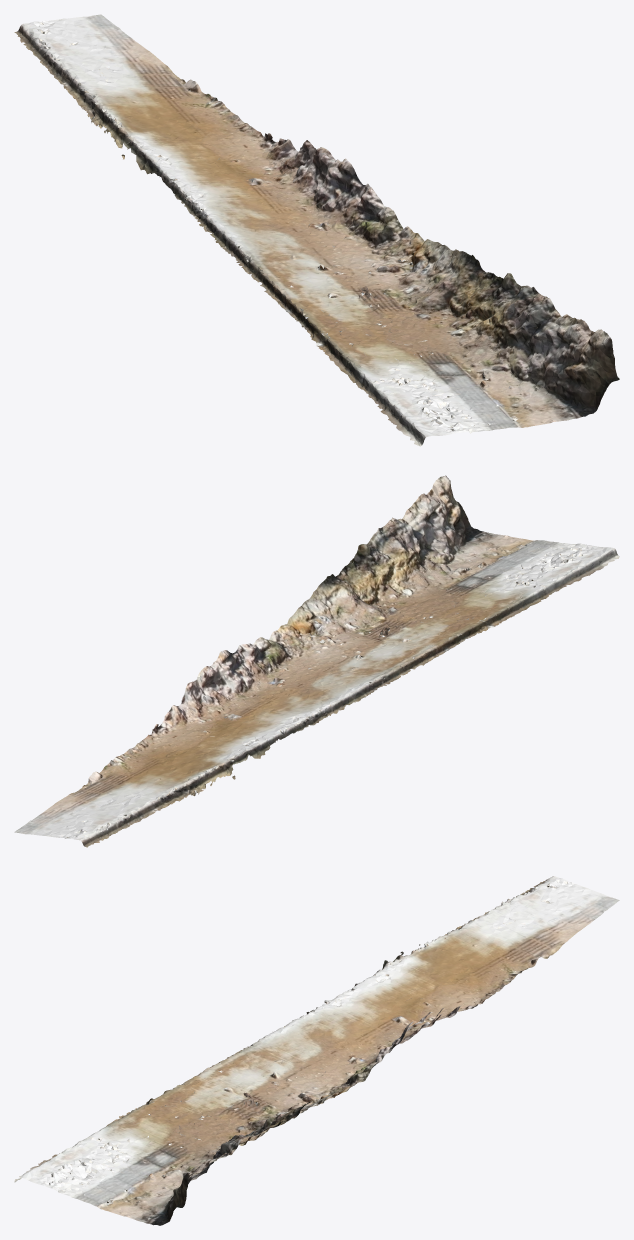
The picture shows the model from 3 angles, top to bottom: view 1: azimuth 30°, elevation 25°; view 2: azimuth 150°, elevation 25°; view 3: azimuth 330°, elevation 25°; orthographic projection. The views are drawn at different scales.
Size of the model in its own units: 3.43 by 1.06 by 15.26.
Materials: 1 (1 with a texture image).
